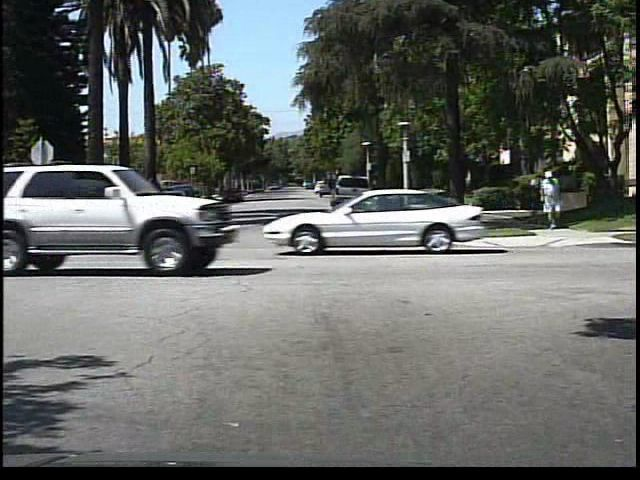person: (539, 170, 565, 235)
